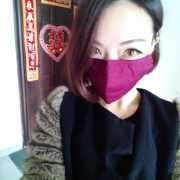OK: (80, 32, 155, 101)
